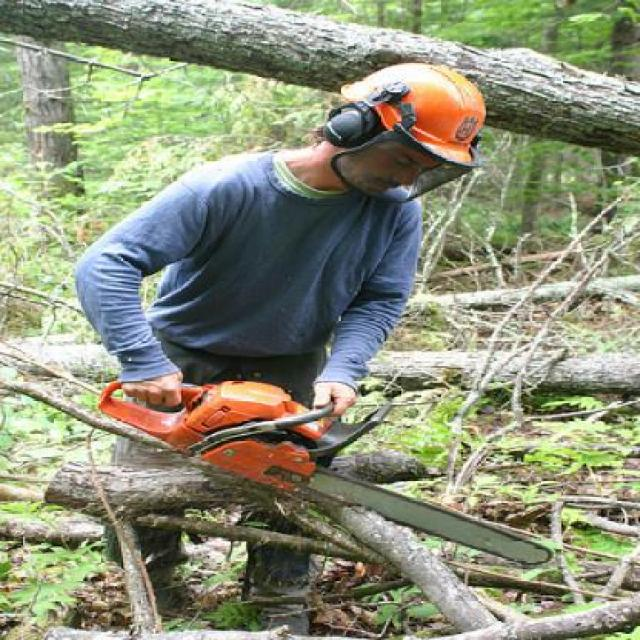Chainsaw: (98, 370, 556, 572)
